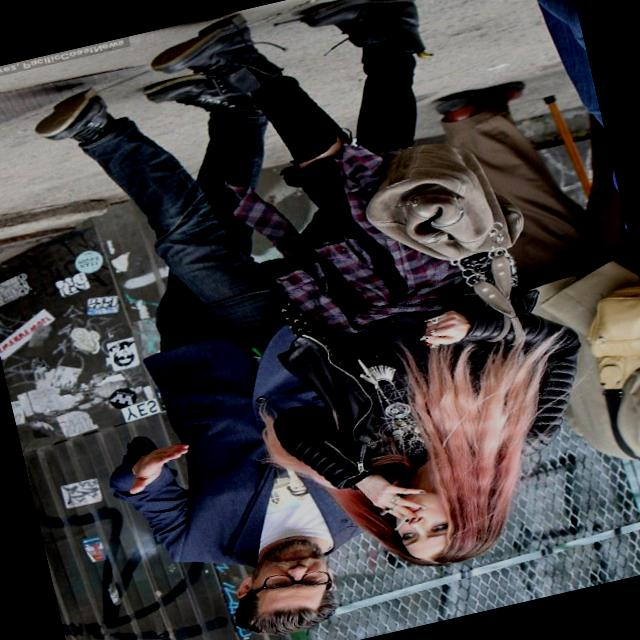smoke: (380, 505, 424, 541)
